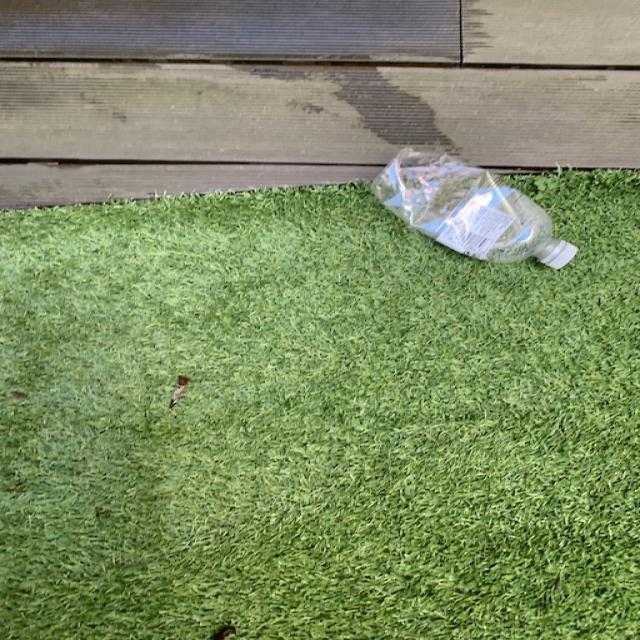PET: (365, 144, 579, 272)
